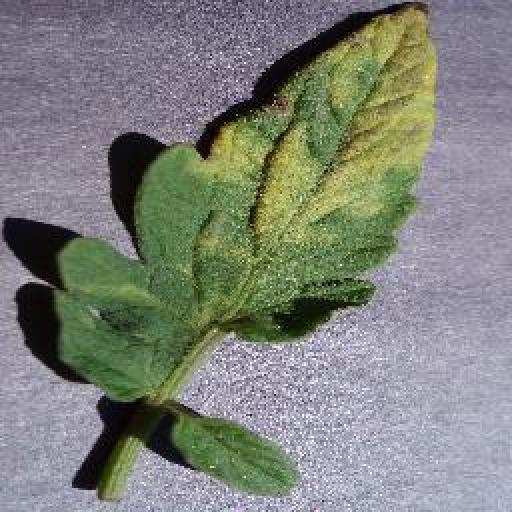disease_tomato: (51, 1, 438, 396)
